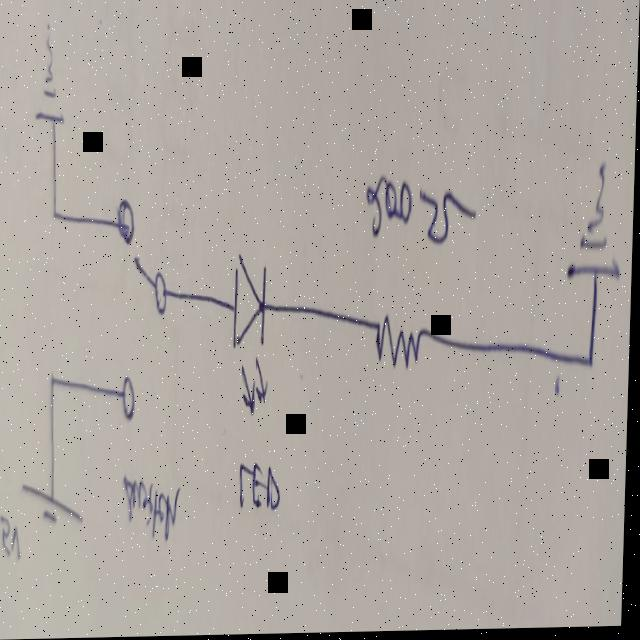diode: (230, 261, 274, 422)
ground: (567, 168, 622, 293), (35, 26, 66, 131)
junction: (585, 343, 599, 382), (51, 368, 59, 395), (53, 202, 61, 228)
resistor: (374, 318, 426, 373)
source: (22, 485, 89, 530)
switch: (114, 198, 173, 425)
text: (366, 173, 480, 254), (127, 483, 181, 544), (241, 463, 285, 517), (1, 513, 26, 567)
